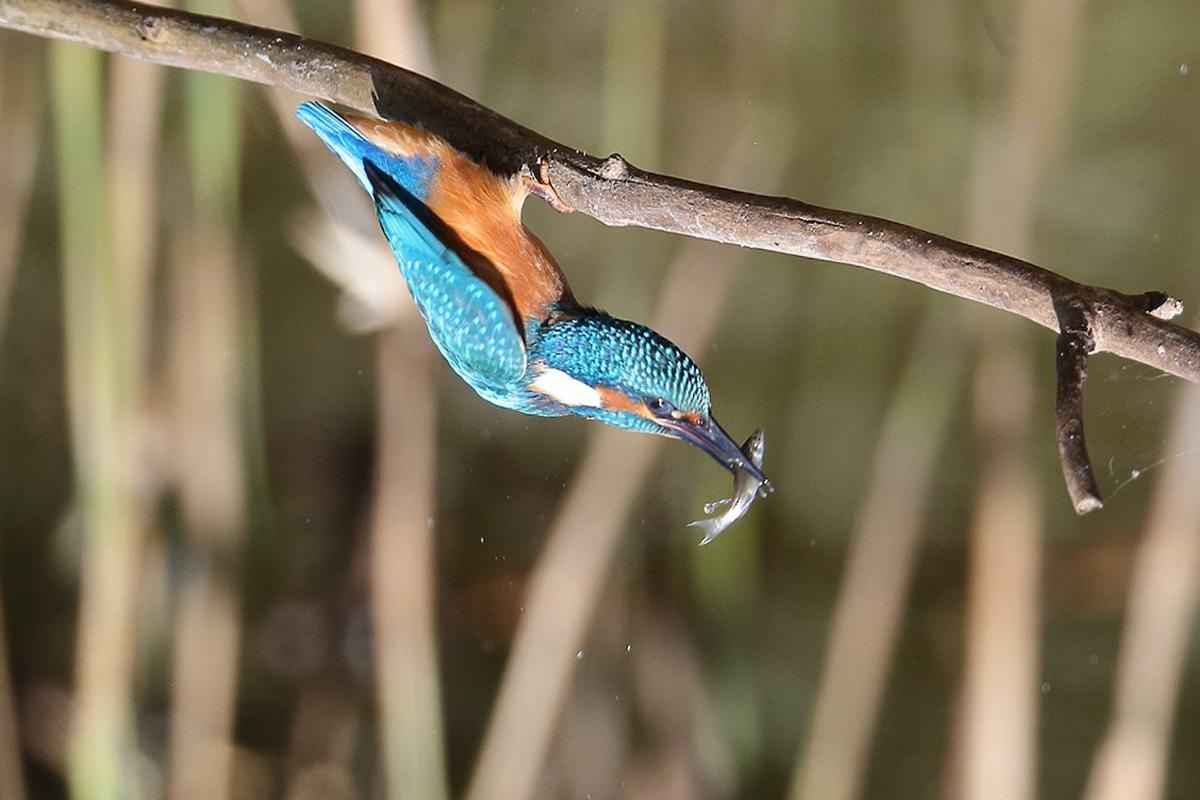kingfisher: (325, 77, 857, 550)
